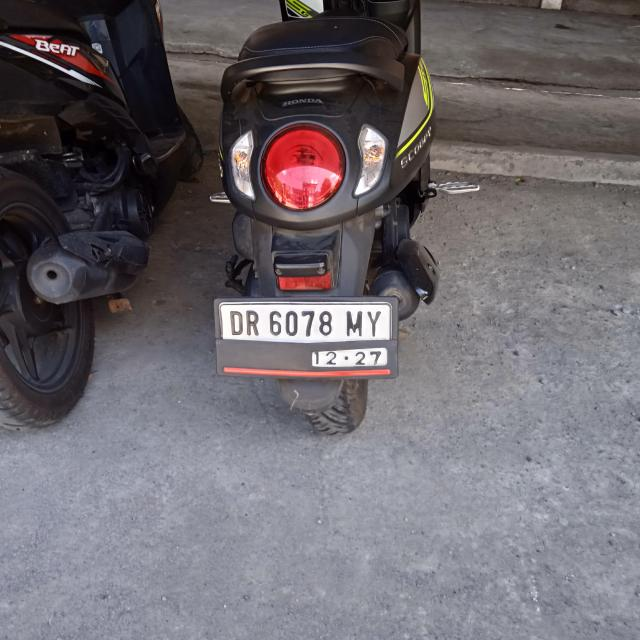plate: (220, 304, 390, 368)
